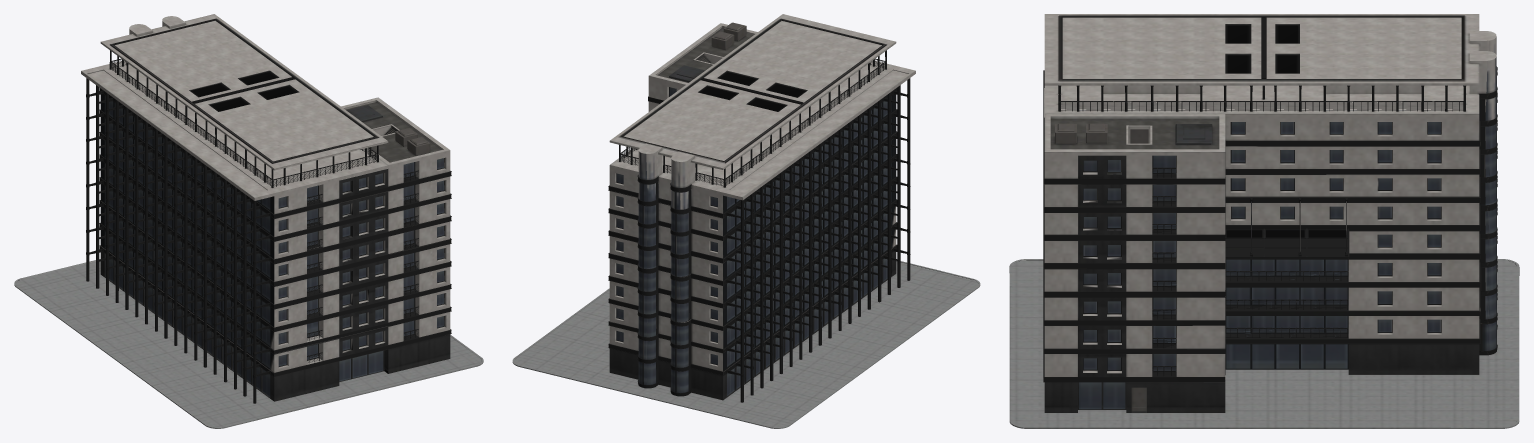
Rendered from bld22_01.glb.
3 renders of one model, left to right at view 1: azimuth 30°, elevation 25°; view 2: azimuth 150°, elevation 25°; view 3: azimuth 270°, elevation 25°, orthographic. The views are drawn at different scales.
Parts seen in each view (by area): view 1: bld22_01; view 2: bld22_01; view 3: bld22_01.
Boxes of the visible parts, x1=… form: bld22_01: x1=14, y1=14, x2=483, y2=428; bld22_01: x1=512, y1=14, x2=980, y2=428; bld22_01: x1=1009, y1=14, x2=1519, y2=428.
Size of the model in its own units: 90.22 by 73.77 by 115.
Materials: 1 (1 with a texture image).
